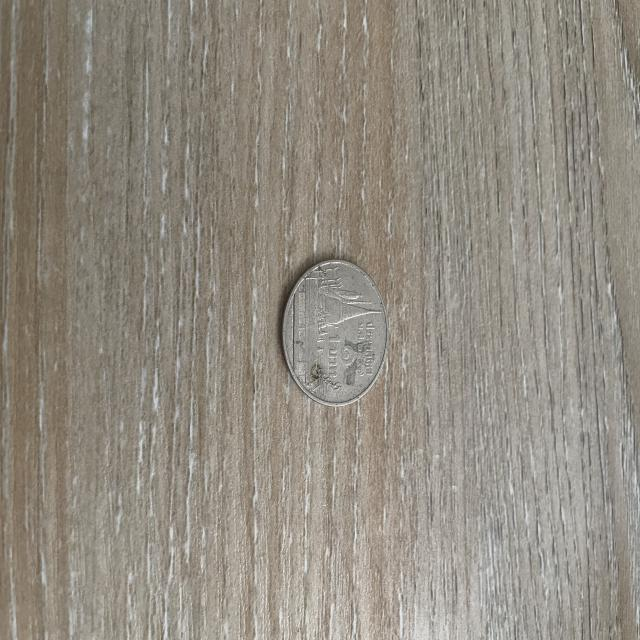1 Bath: (280, 246, 394, 416)
